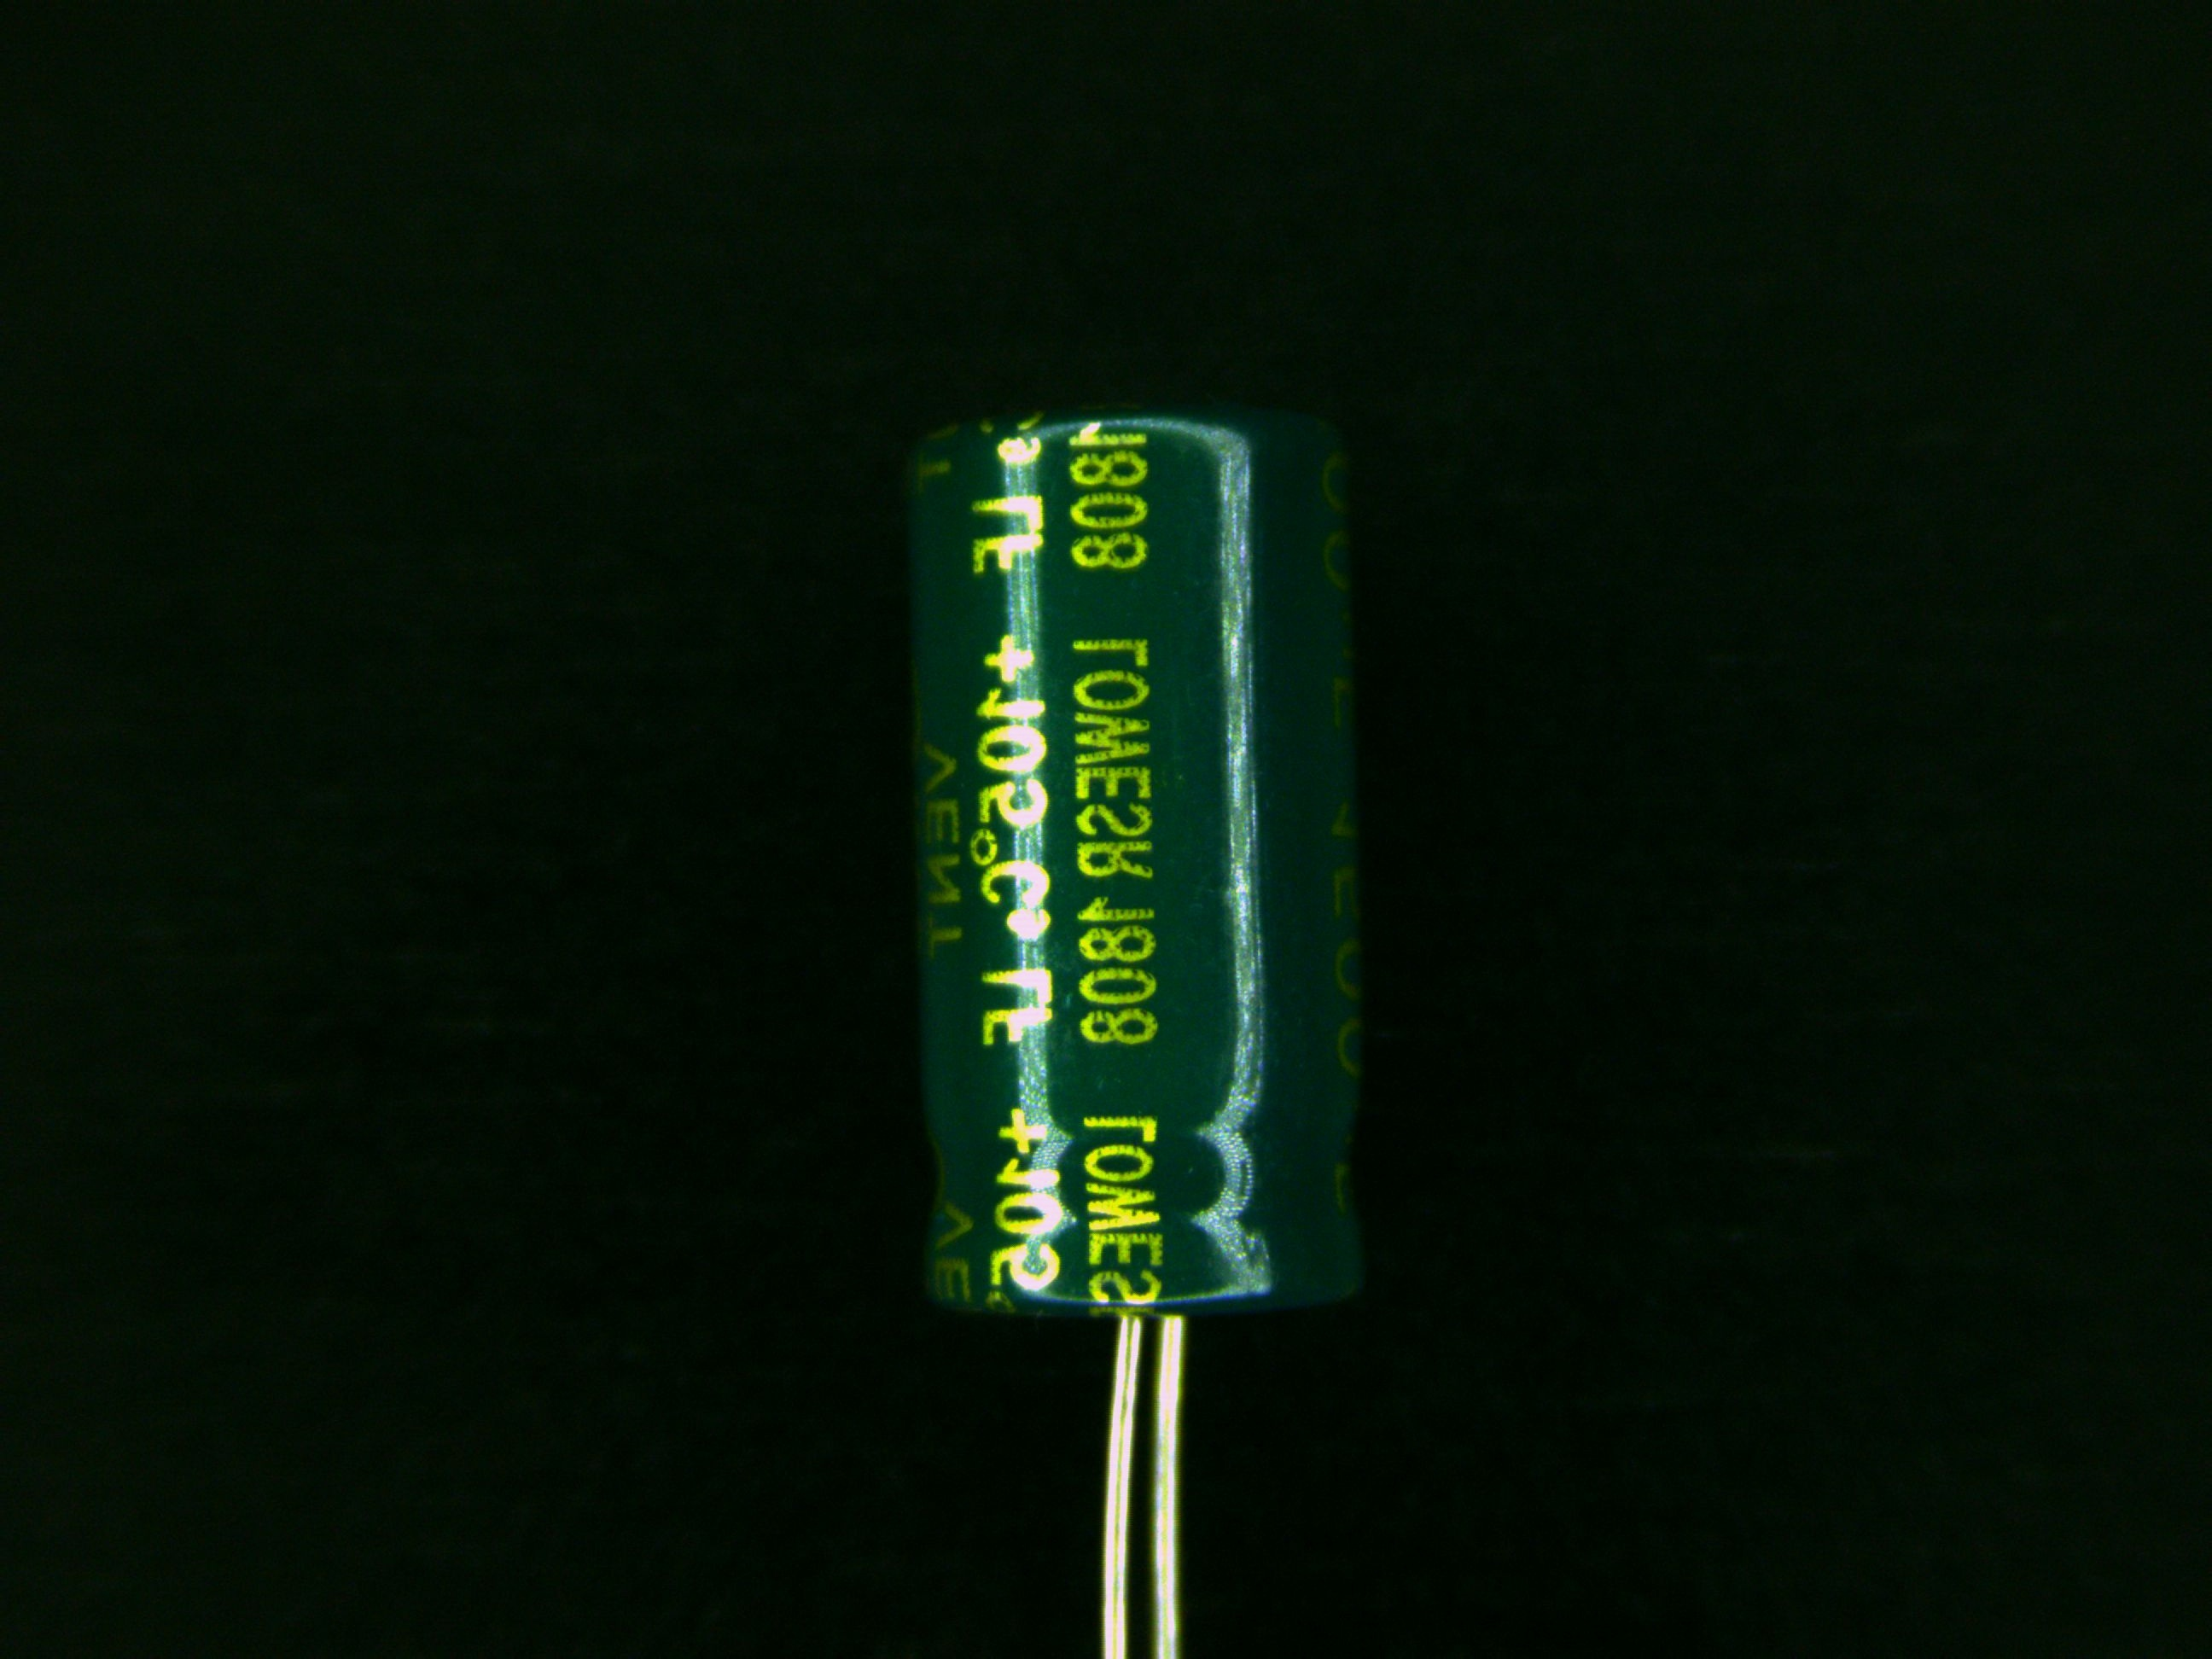c1: (900, 413, 1374, 1363)
